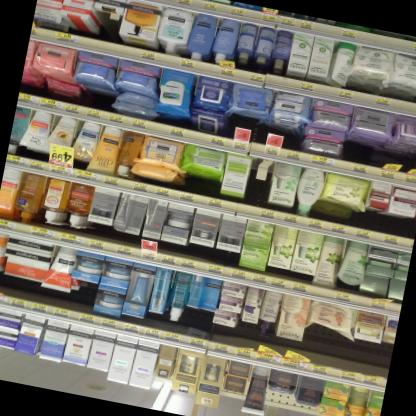empty_space: (241, 155, 274, 201)
